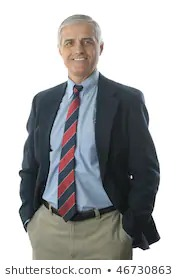F_M_suit jacket: (17, 71, 168, 251)
F_belt: (40, 197, 118, 218)
F_tie: (56, 81, 83, 218)
